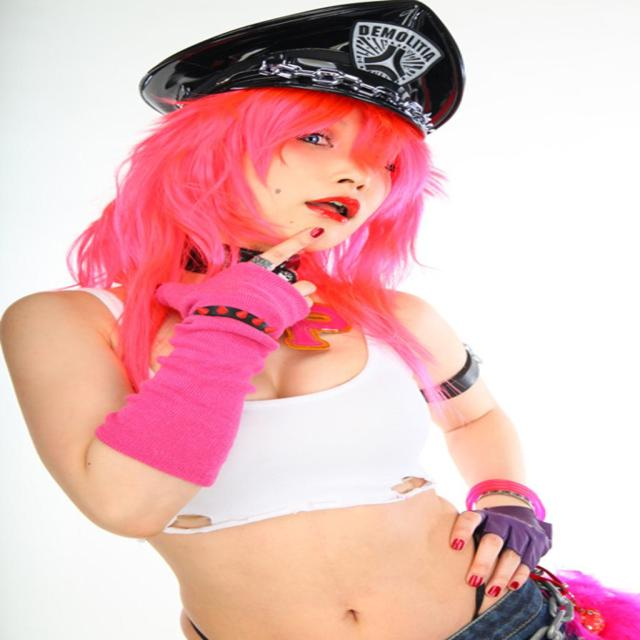Face: (218, 100, 434, 247)
